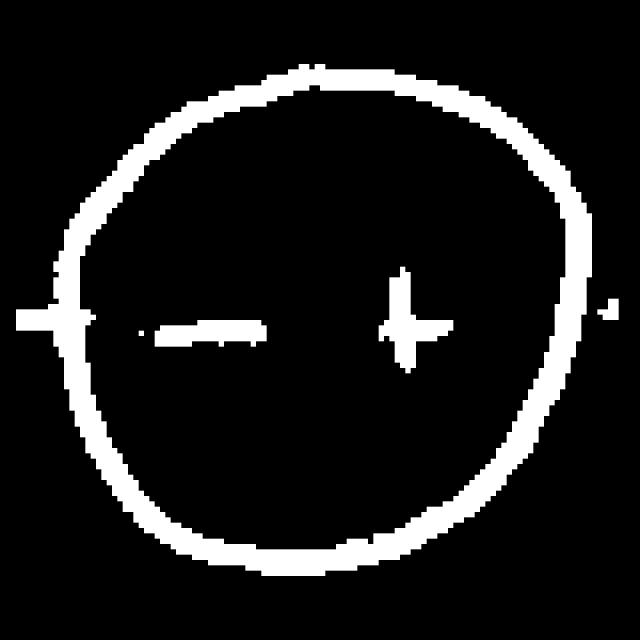voltage_source: (45, 52, 592, 584)
